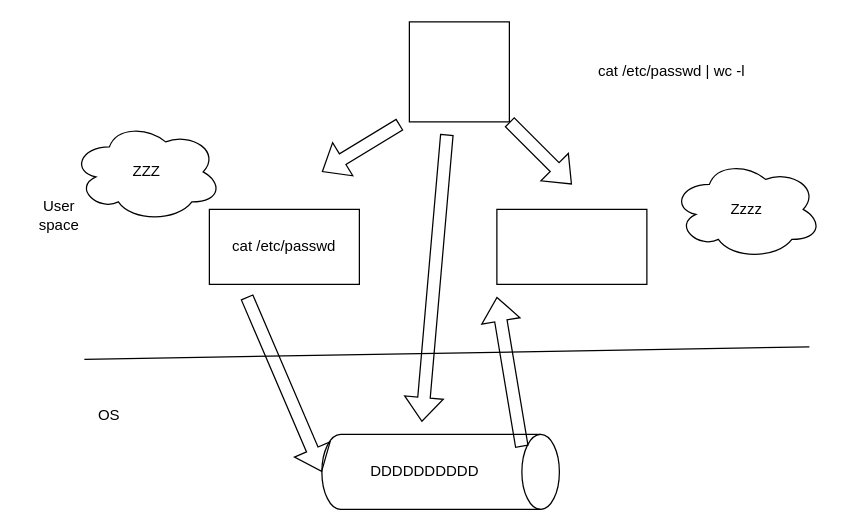
Some shapes in this 844 by 531 pixel diagram are drawn without their labels. Each missing label, with the centre of its shape:
"shell" goes at (458,71).
"wc -l" goes at (571,246).
